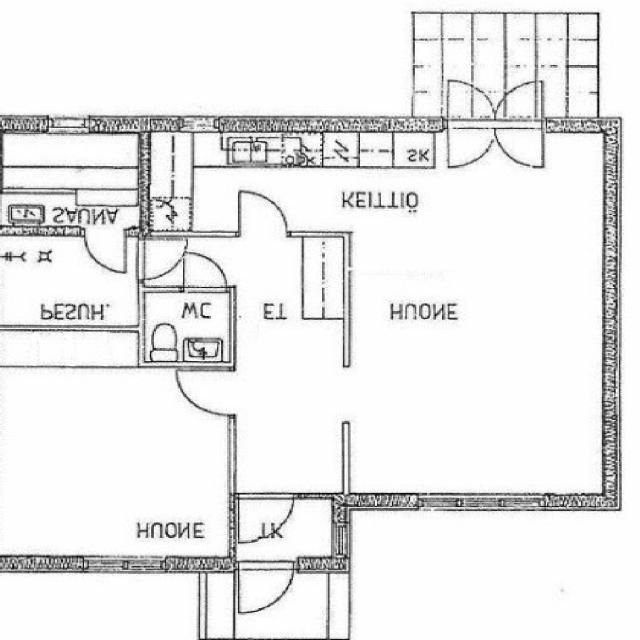door: (238, 556, 294, 618), (240, 494, 294, 544), (495, 117, 543, 173), (495, 76, 543, 132), (447, 117, 495, 172), (447, 77, 495, 132), (177, 370, 235, 414), (138, 239, 192, 279), (239, 191, 287, 236), (84, 226, 125, 270), (185, 250, 227, 291)
